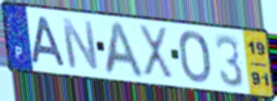3: (214, 32, 245, 90)
A: (102, 20, 146, 81), (30, 14, 68, 69)
N: (59, 16, 101, 73)
O: (177, 29, 213, 86)
X: (137, 23, 176, 83)
